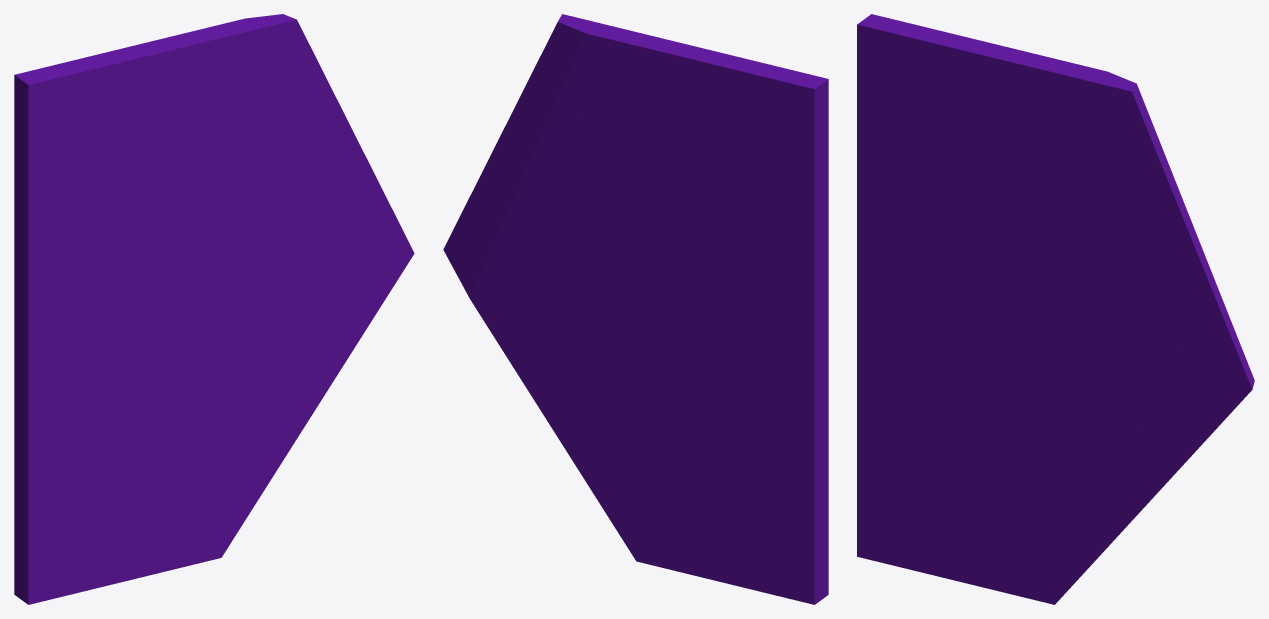
Rendered from ElevatorWall_3_0_chunks.fbx.
The picture shows the model from 3 angles, left to right: view 1: azimuth 30°, elevation 25°; view 2: azimuth 150°, elevation 25°; view 3: azimuth 330°, elevation 25°; orthographic projection. The views are drawn at different scales.
Visible parts, largest first — view 1: ElevatorWall_3_0_5, ElevatorWall_3_0_3, ElevatorWall_3_0_10, ElevatorWall_3_0_1, ElevatorWall_3_0_6, ElevatorWall_3_0_7, ElevatorWall_3_0_9, ElevatorWall_3_0_13, ElevatorWall_3_0_17, ElevatorWall_3_0_11, ElevatorWall_3_0_2, ElevatorWall_3_0_15 (+5 smaller); view 2: ElevatorWall_3_0_3, ElevatorWall_3_0_5, ElevatorWall_3_0_1, ElevatorWall_3_0_12, ElevatorWall_3_0_6, ElevatorWall_3_0_7, ElevatorWall_3_0_10, ElevatorWall_3_0_2, ElevatorWall_3_0_9, ElevatorWall_3_0_8, ElevatorWall_3_0_14, ElevatorWall_3_0_13 (+5 smaller); view 3: ElevatorWall_3_0_5, ElevatorWall_3_0_10, ElevatorWall_3_0_3, ElevatorWall_3_0_6, ElevatorWall_3_0_7, ElevatorWall_3_0_1, ElevatorWall_3_0_9, ElevatorWall_3_0_13, ElevatorWall_3_0_17, ElevatorWall_3_0_11, ElevatorWall_3_0_2, ElevatorWall_3_0_15 (+5 smaller).
Part boxes in pixels (x1,y1,x2,y2): ElevatorWall_3_0_5: [14, 393, 159, 604]; ElevatorWall_3_0_3: [14, 44, 159, 256]; ElevatorWall_3_0_10: [138, 15, 294, 206]; ElevatorWall_3_0_1: [14, 242, 180, 428]; ElevatorWall_3_0_6: [157, 359, 288, 573]; ElevatorWall_3_0_7: [52, 275, 260, 421]; ElevatorWall_3_0_9: [184, 164, 381, 285]; ElevatorWall_3_0_13: [317, 226, 414, 370]; ElevatorWall_3_0_17: [269, 128, 400, 233]; ElevatorWall_3_0_11: [238, 273, 319, 385]; ElevatorWall_3_0_2: [138, 130, 204, 293]; ElevatorWall_3_0_15: [270, 14, 327, 159]; ElevatorWall_3_0_3: [672, 52, 828, 263]; ElevatorWall_3_0_5: [678, 404, 828, 604]; ElevatorWall_3_0_1: [649, 230, 828, 440]; ElevatorWall_3_0_12: [497, 293, 623, 482]; ElevatorWall_3_0_6: [586, 391, 681, 572]; ElevatorWall_3_0_7: [614, 306, 766, 440]; ElevatorWall_3_0_10: [564, 14, 719, 119]; ElevatorWall_3_0_2: [623, 112, 717, 312]; ElevatorWall_3_0_9: [494, 174, 640, 269]; ElevatorWall_3_0_8: [574, 106, 669, 214]; ElevatorWall_3_0_14: [478, 219, 632, 301]; ElevatorWall_3_0_13: [443, 215, 522, 341]; ElevatorWall_3_0_5: [857, 352, 991, 588]; ElevatorWall_3_0_10: [969, 45, 1129, 226]; ElevatorWall_3_0_3: [857, 14, 1000, 206]; ElevatorWall_3_0_6: [989, 421, 1123, 604]; ElevatorWall_3_0_7: [881, 307, 1094, 444]; ElevatorWall_3_0_1: [857, 200, 1012, 358]; ElevatorWall_3_0_9: [1016, 225, 1218, 352]; ElevatorWall_3_0_13: [1153, 336, 1254, 472]; ElevatorWall_3_0_17: [1104, 213, 1238, 355]; ElevatorWall_3_0_11: [1071, 334, 1154, 452]; ElevatorWall_3_0_2: [970, 136, 1037, 314]; ElevatorWall_3_0_15: [1104, 80, 1167, 221].
Bounding box in the file's own units: 906 × 1165 × 57.27.
